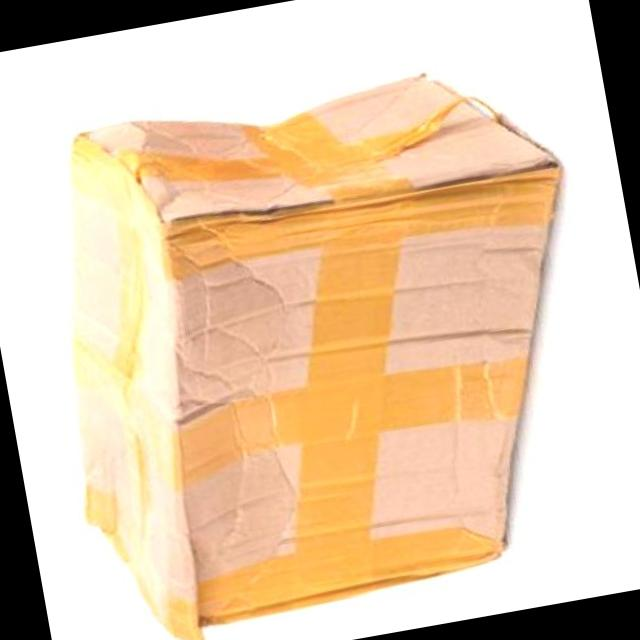box: (26, 82, 621, 519)
